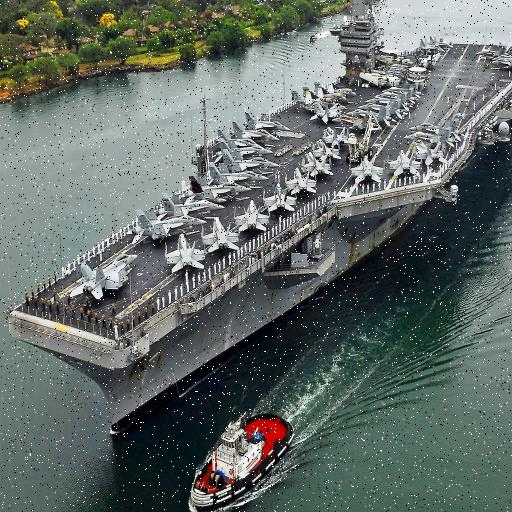Portanaves: (3, 1, 512, 442)
